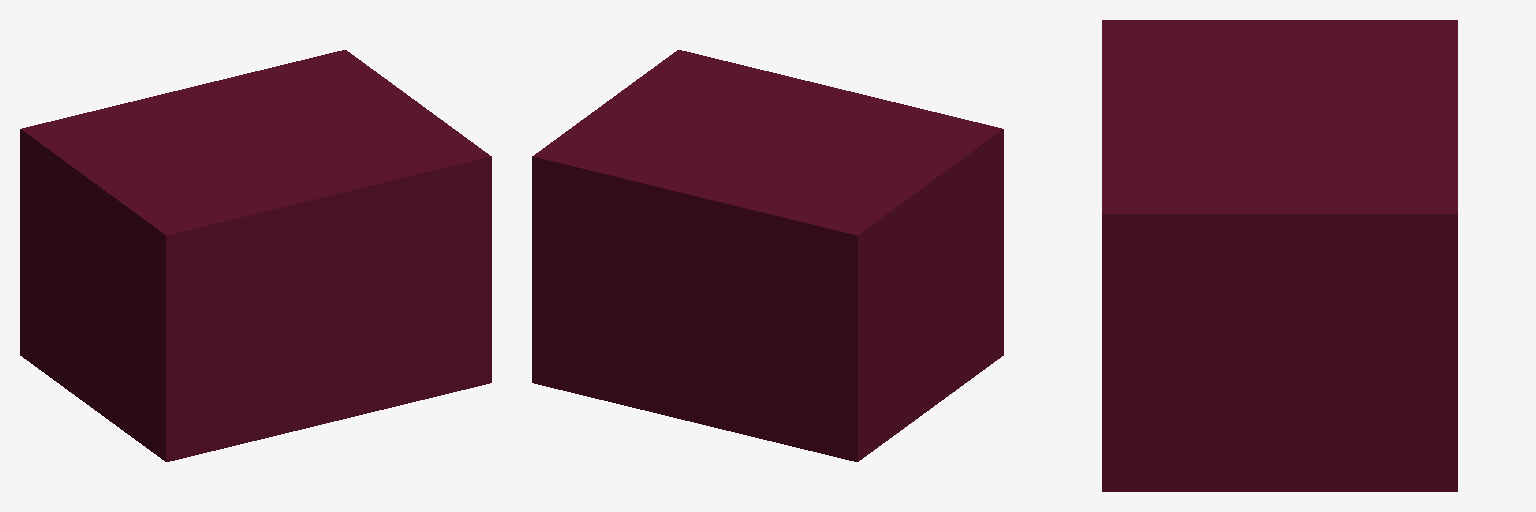
URDF robot description (random_box):
<?xml version='1.0' encoding='UTF-8'?>
<robot name="random_box">
  <link name="box">

    <inertial>
      <mass value="0.3"/>
      <origin xyz="0 0 0" rpy="0 0 0"/>
      <inertia ixx="0.1" ixy="0.1" ixz="0.1" iyy="0.1" iyz="0.1" izz="0.1"/>
    </inertial>

    <visual>
      <geometry>
        <box size="0.9 0.7 0.6"/>
      </geometry>
      <material name="color">
        <color rgba="0.4 0.1 0.2 1"/>
      </material>
    </visual>
    <collision>
      <geometry>
        <box size="0.9 0.7 0.6"/>
      </geometry>

      <surface>
        <friction>
          <ode>
            <mu>100000000.0</mu>
            <mu2>100000000.0</mu2>
          </ode>
        </friction>
        <contact>
          <ode>
            <min_depth>0.003</min_depth>
          </ode>
        </contact>
      </surface>

    </collision>

  </link>
</robot>

--- Facts derived from the render (not from the file) ---
3 views of the same robot in one strip: view 1: azimuth 30°, elevation 25°; view 2: azimuth 150°, elevation 25°; view 3: azimuth 270°, elevation 25° (orthographic).
Model random_box with 1 links and 0 joints (none), rooted at box, posed all joints at 0.
Links seen in each view (by area): view 1: box; view 2: box; view 3: box.
Boxes of the visible links, left/top/right/bottom form: box: left=20, top=50, right=491, bottom=461; box: left=532, top=50, right=1003, bottom=461; box: left=1102, top=20, right=1457, bottom=491.
Size in the robot's own frame: 0.9 by 0.7 by 0.6 metres.
Geometry: primitives only (box / cylinder / sphere), no mesh files.